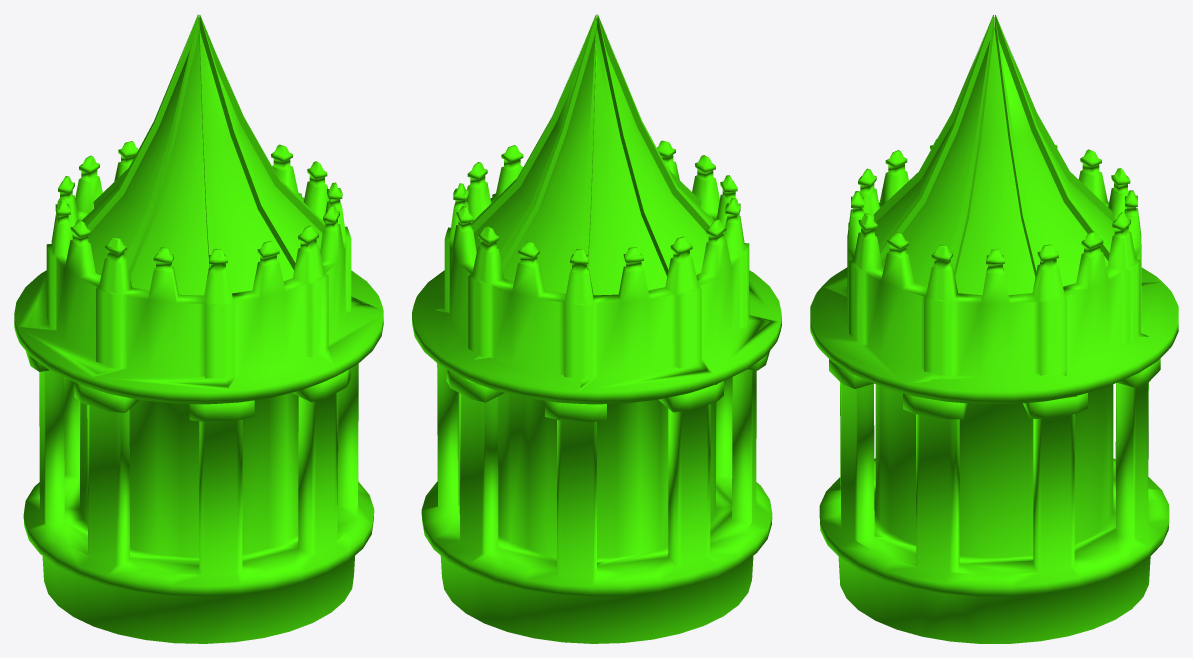
Rendered from extdome_edited2_roof_top.gltf.
3 views of the same model, side by side, from view 1: azimuth 30°, elevation 25°; view 2: azimuth 150°, elevation 25°; view 3: azimuth 270°, elevation 25° (orthographic).
Parts seen in each view (by area): view 1: koepelklein_Material #22_0, roof2_Material #21_0; view 2: koepelklein_Material #22_0, roof2_Material #21_0; view 3: koepelklein_Material #22_0, roof2_Material #21_0.
Part boxes in pixels (x1,y1,x2,y2): koepelklein_Material #22_0: [14, 141, 383, 643]; roof2_Material #21_0: [72, 14, 325, 295]; koepelklein_Material #22_0: [412, 140, 781, 643]; roof2_Material #21_0: [471, 14, 714, 295]; koepelklein_Material #22_0: [810, 139, 1178, 643]; roof2_Material #21_0: [873, 15, 1114, 295].
Size of the model in its own units: 26.54 by 44.84 by 26.54.
2 materials, 2 textured.
